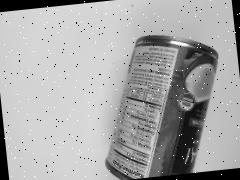metal: (85, 10, 240, 180)
